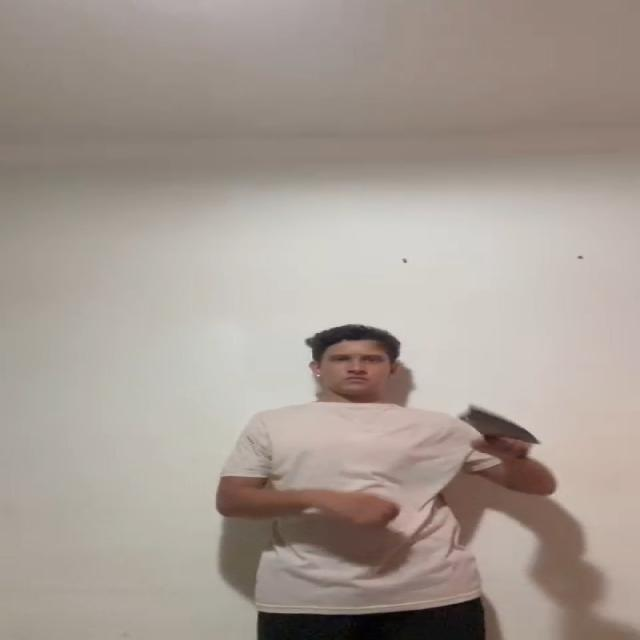knife: (457, 406, 540, 442)
